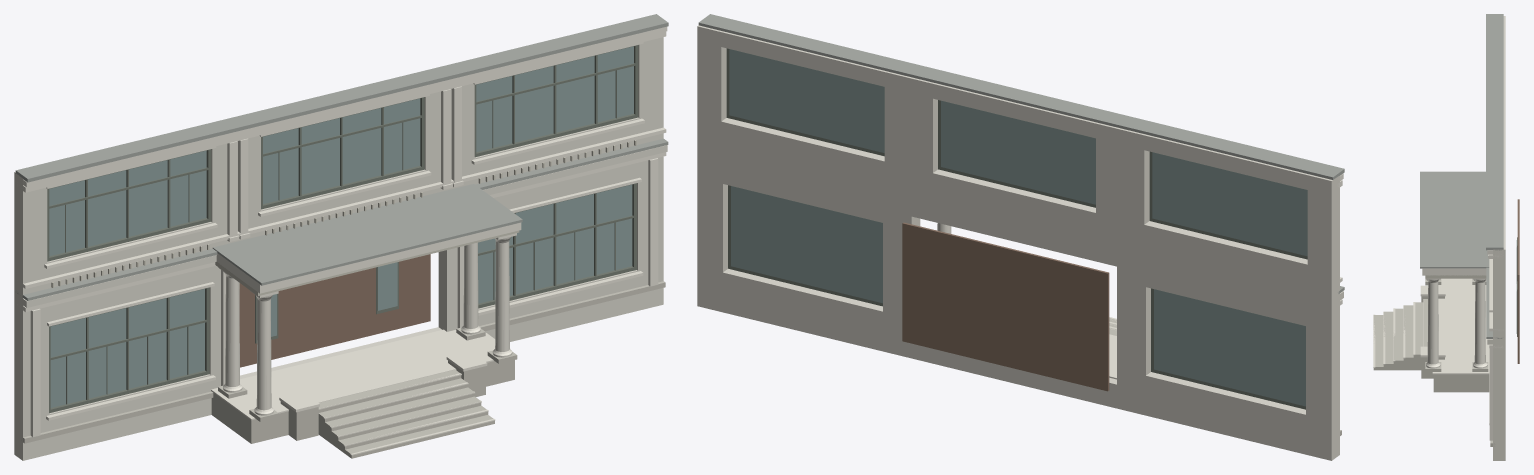
Rendered from xuhui-huaihai-1469-garden-front-web.glb.
3 renders of one model, left to right at view 1: azimuth 30°, elevation 25°; view 2: azimuth 150°, elevation 25°; view 3: azimuth 270°, elevation 25°, orthographic. The views are drawn at different scales.
Visible parts, largest first — view 1: 淮海中路1469号历史花园立面; view 2: 淮海中路1469号历史花园立面; view 3: 淮海中路1469号历史花园立面.
Part boxes in pixels (box(x1,y1,x2,y2)): 淮海中路1469号历史花园立面: box(14, 14, 668, 460); 淮海中路1469号历史花园立面: box(697, 14, 1344, 460); 淮海中路1469号历史花园立面: box(1373, 14, 1519, 460).
Bounding box in the file's own units: 16.56 × 7.05 × 4.39.
